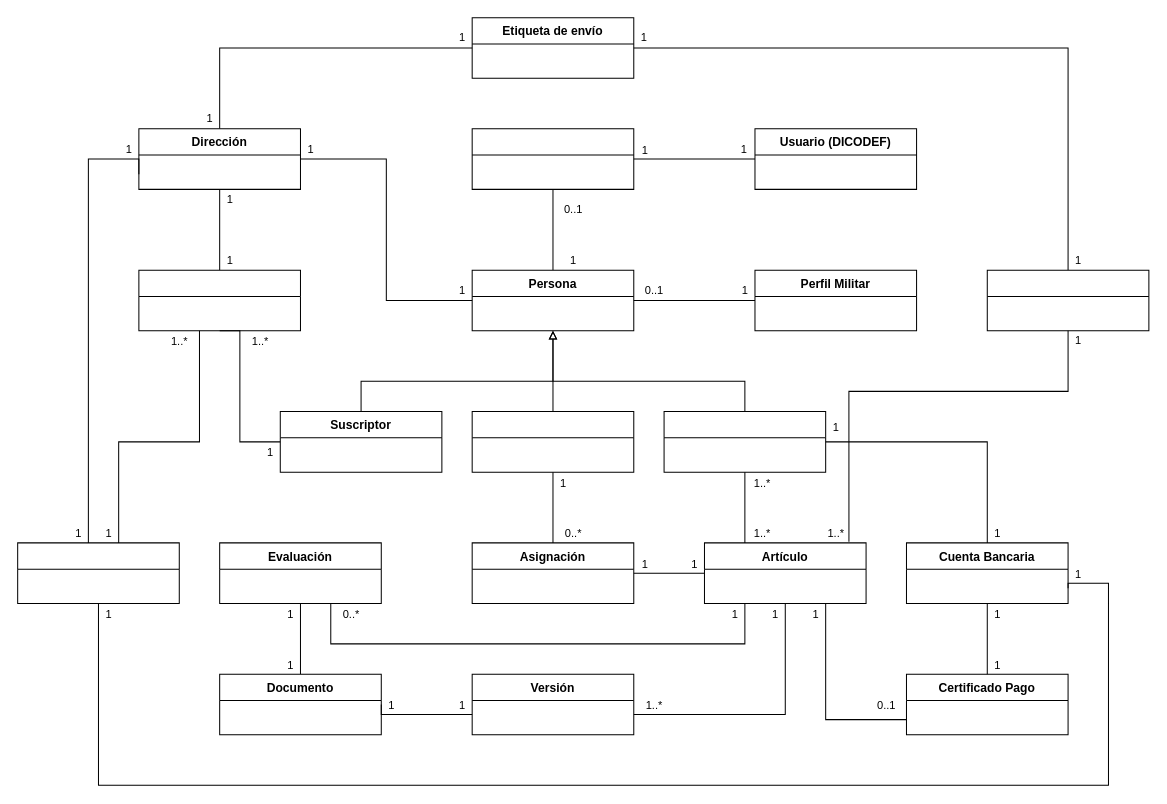
This 1167x804 diagram has some shape labels left out. The shapes that lost their labels are listed below. From the top down, each one's centre as x and y in pixels, then its label:
point 552,158: Rol
point 219,300: Suscripción
point 1067,300: Número de Revista
point 552,441: Consejero
point 744,441: Autor
point 98,572: Pagador
